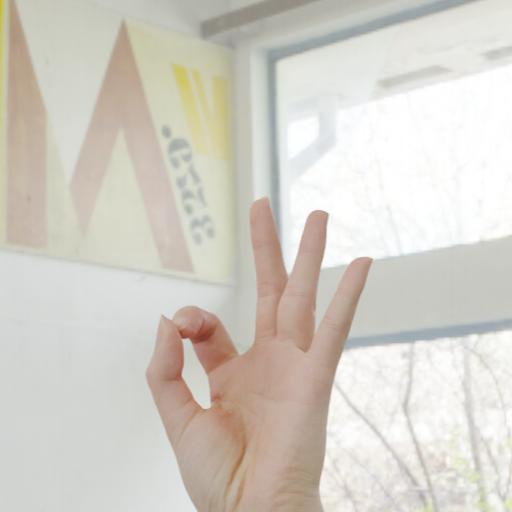F: (144, 194, 375, 510)
